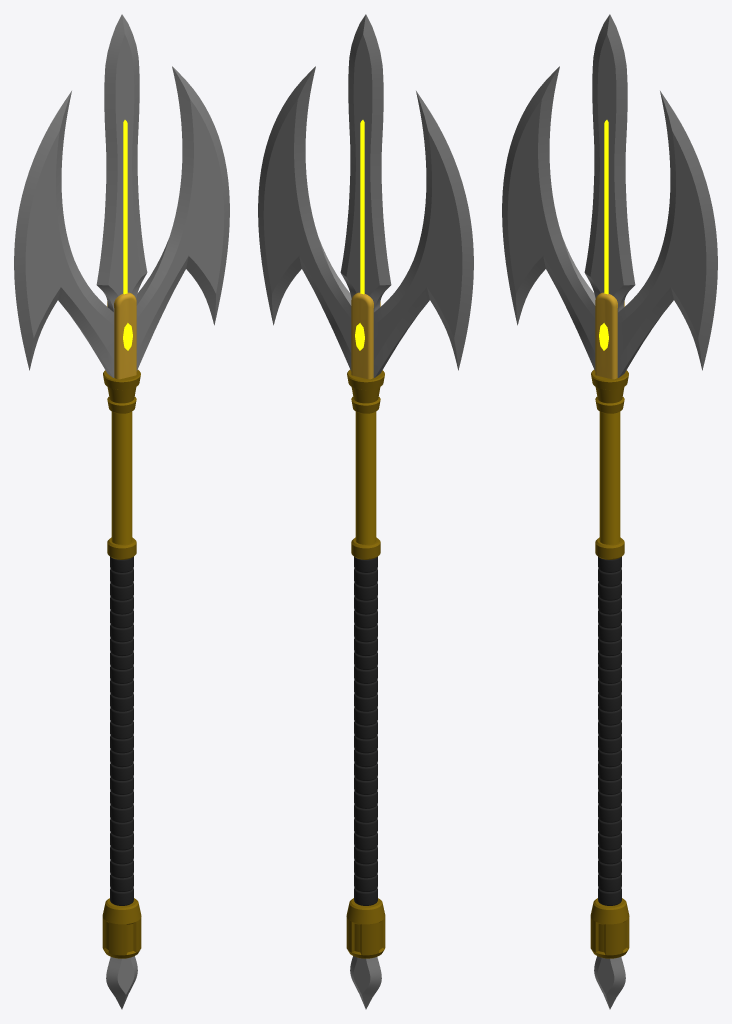
The model's file is Spear.fbx.
The picture shows the model from 3 angles, left to right: view 1: azimuth 30°, elevation 25°; view 2: azimuth 150°, elevation 25°; view 3: azimuth 330°, elevation 25°; orthographic projection.
Visible parts, largest first — view 1: Spear; view 2: Spear; view 3: Spear.
Part boxes in pixels (left/top/right/bottom): Spear: left=14, top=14, right=229, bottom=1009; Spear: left=258, top=14, right=473, bottom=1009; Spear: left=502, top=14, right=717, bottom=1009.
Bounding box in the file's own units: 63.92 × 282 × 9.96.
